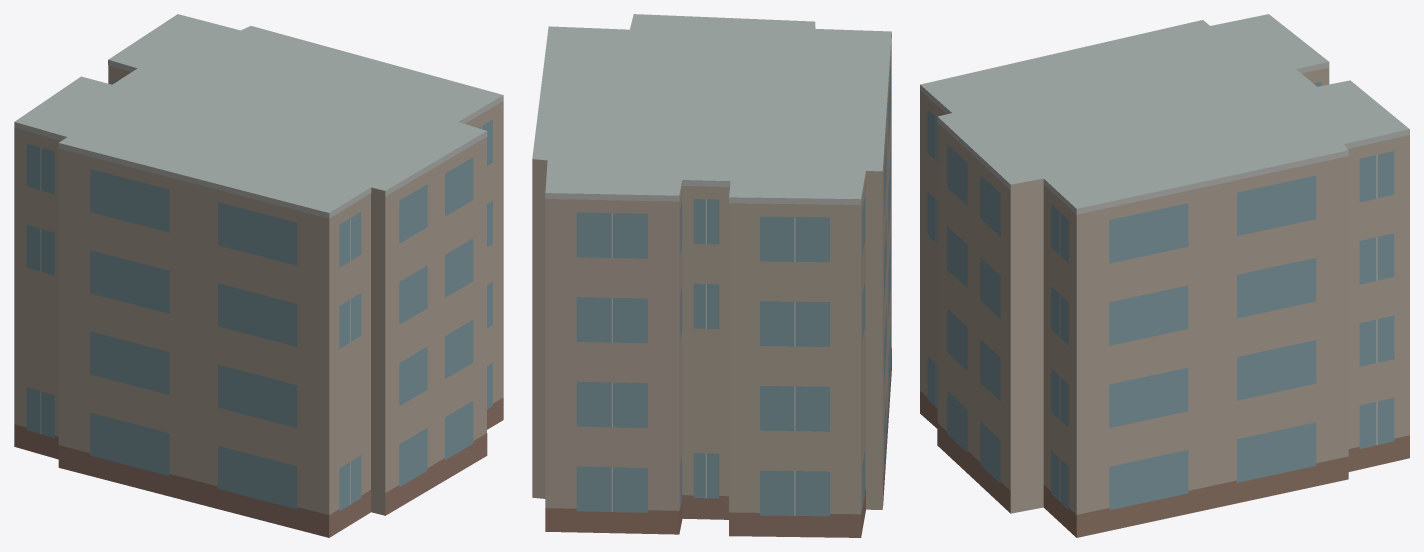
File: survey-upis-32940904.glb
The picture shows the model from 3 angles, left to right: view 1: azimuth 30°, elevation 25°; view 2: azimuth 150°, elevation 25°; view 3: azimuth 270°, elevation 25°; orthographic projection. The views are drawn at different scales.
Parts seen in each view (by area): view 1: survey-upis-32940904.tmp; view 2: survey-upis-32940904.tmp; view 3: survey-upis-32940904.tmp.
Part boxes in pixels (x1=…): survey-upis-32940904.tmp: x1=14, y1=14, x2=503, y2=537; survey-upis-32940904.tmp: x1=532, y1=14, x2=891, y2=537; survey-upis-32940904.tmp: x1=920, y1=14, x2=1409, y2=537.
Bounding box in the file's own units: 17.8 × 14 × 18.9.
